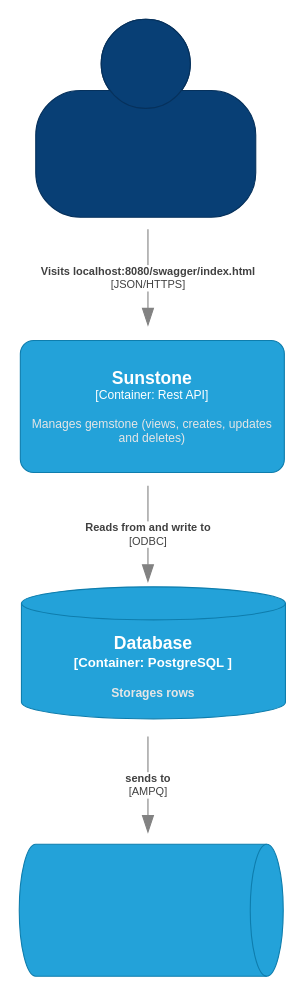
Image size: 305x996. Some labels were removed from this diagram. Each missing label, with the centre of its shape:
"Queue [Container: RabbitMQ] receive messages" goes at point 150,909.
"User [Person] A responsible user to manage gemstone" goes at point 145,117.
